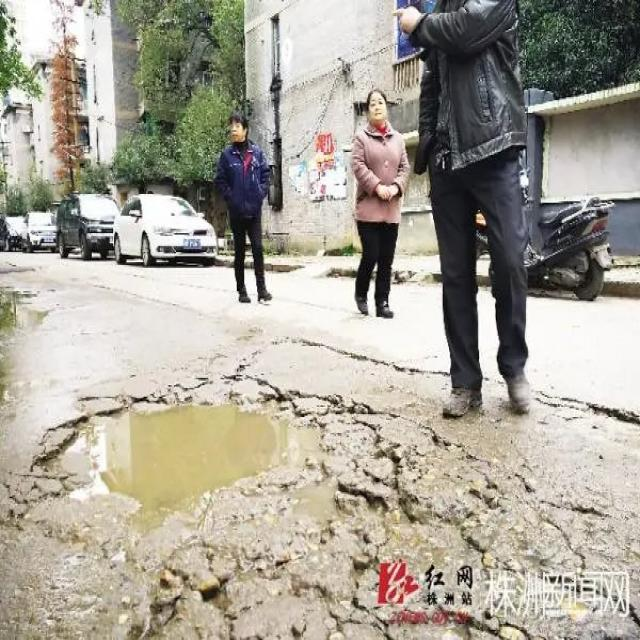Pothole: (355, 475, 634, 638), (32, 392, 333, 528)
